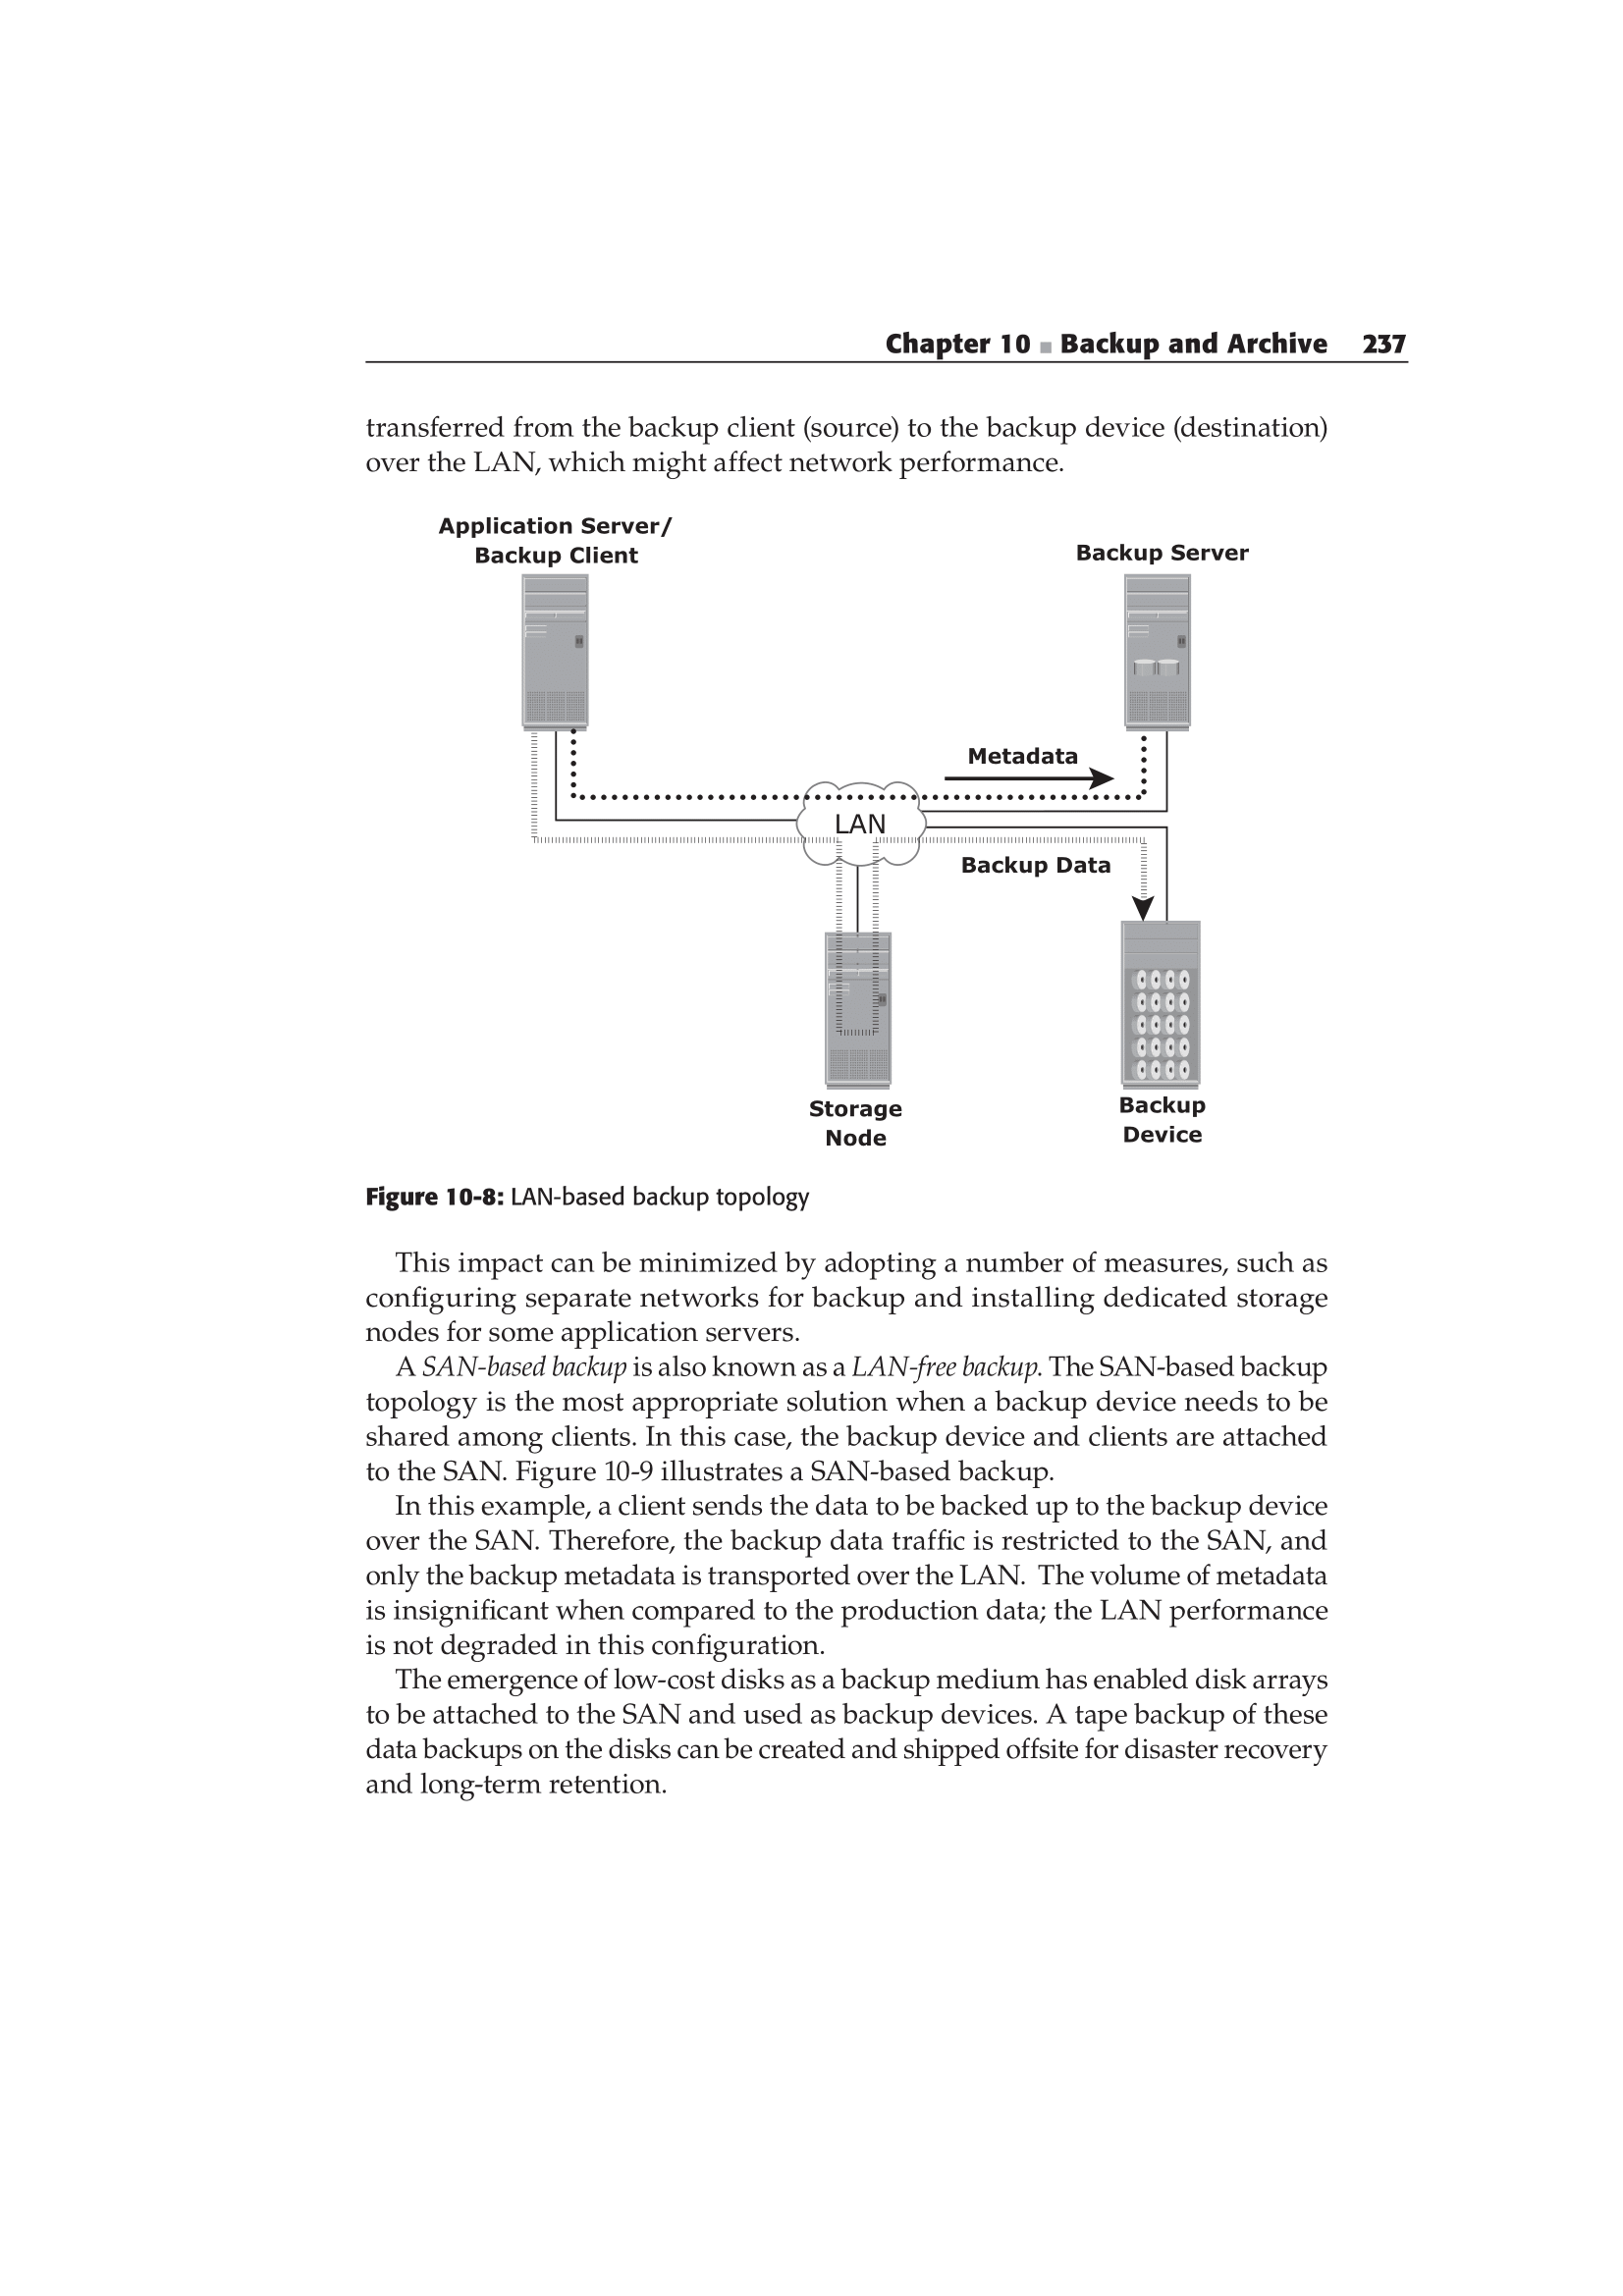Image: (402, 493, 1288, 1169)
Paragraph: (351, 1503, 1361, 1662), (351, 1657, 1379, 1812), (351, 1346, 1351, 1492), (343, 1238, 1342, 1352), (351, 393, 1351, 479), (343, 1178, 822, 1232), (868, 325, 1461, 360)
